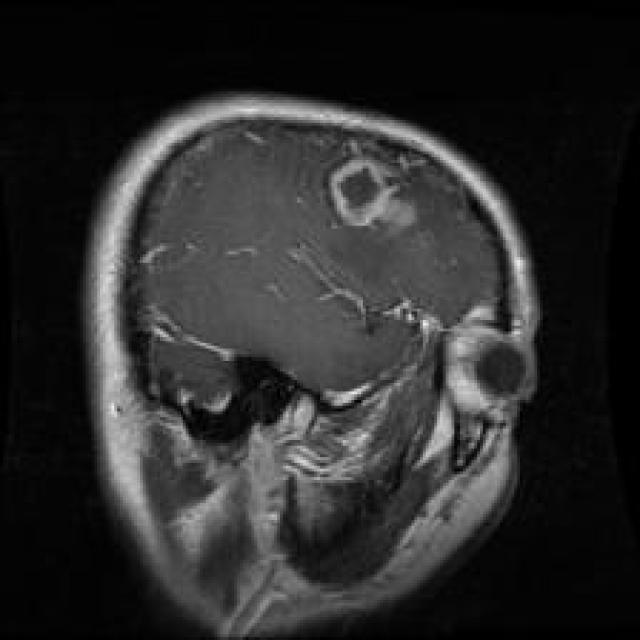glioma_tumor: (312, 126, 426, 267)
